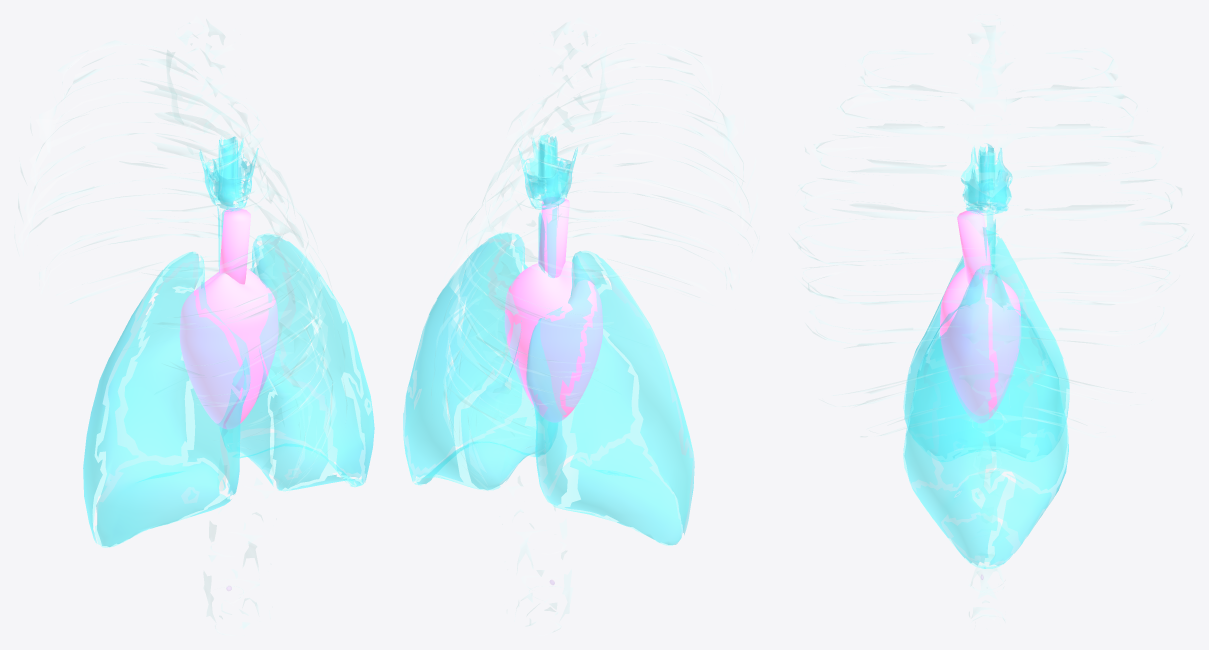
The model's file is heart-anatomical-responding-3.glb.
3 views of the same model, side by side, from view 1: azimuth 30°, elevation 25°; view 2: azimuth 150°, elevation 25°; view 3: azimuth 270°, elevation 25° (orthographic). The views are drawn at different scales.
Visible parts, largest first — view 1: Lungs, Ribcage, Heart, AortaAnat; view 2: Lungs, Ribcage, Heart, AortaAnat; view 3: Lungs, Ribcage, Heart, AortaAnat.
Boxes of the visible parts, box(x1,y1,x2,y2) form: Lungs: box(83, 136, 374, 547); Ribcage: box(17, 16, 346, 635); Heart: box(179, 268, 278, 429); AortaAnat: box(219, 208, 250, 284); Lungs: box(403, 134, 694, 545); Ribcage: box(431, 17, 758, 635); Heart: box(504, 261, 602, 422); AortaAnat: box(538, 197, 569, 277); Lungs: box(903, 143, 1069, 568); Ribcage: box(792, 15, 1189, 620); Heart: box(940, 267, 1020, 423); AortaAnat: box(957, 210, 991, 286).
Size of the model in its own units: 0.9455 by 1.94 by 1.21.
